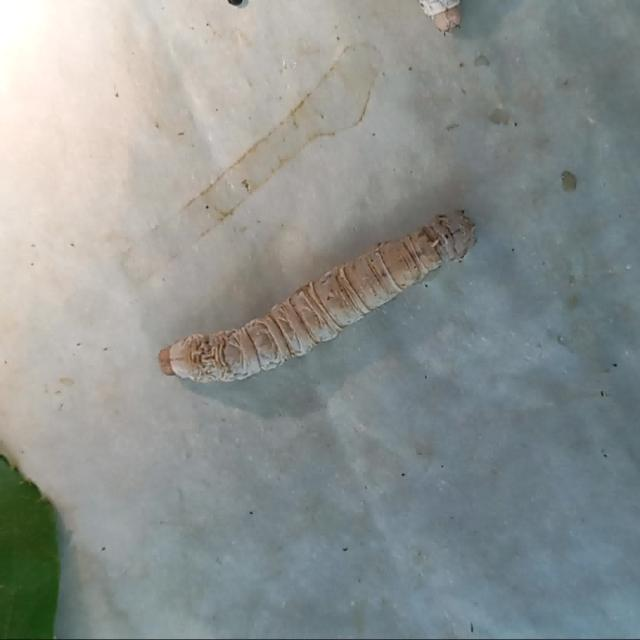Grasserie: (140, 158, 500, 428)
